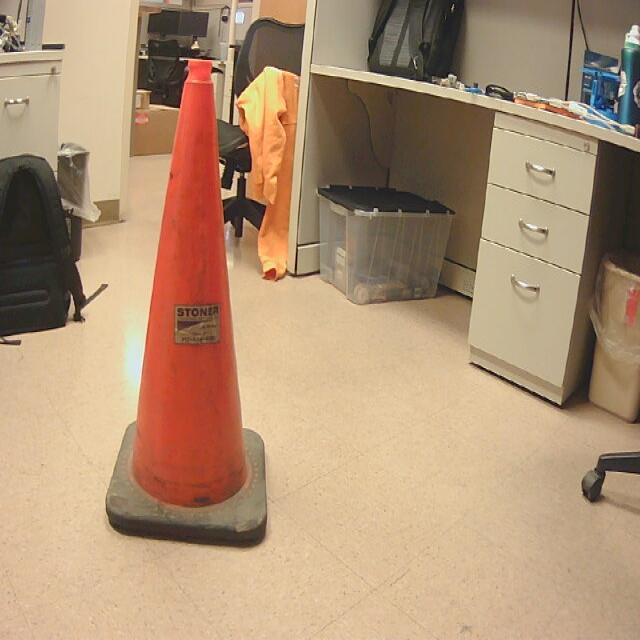traffic cone: (105, 62, 269, 552)
